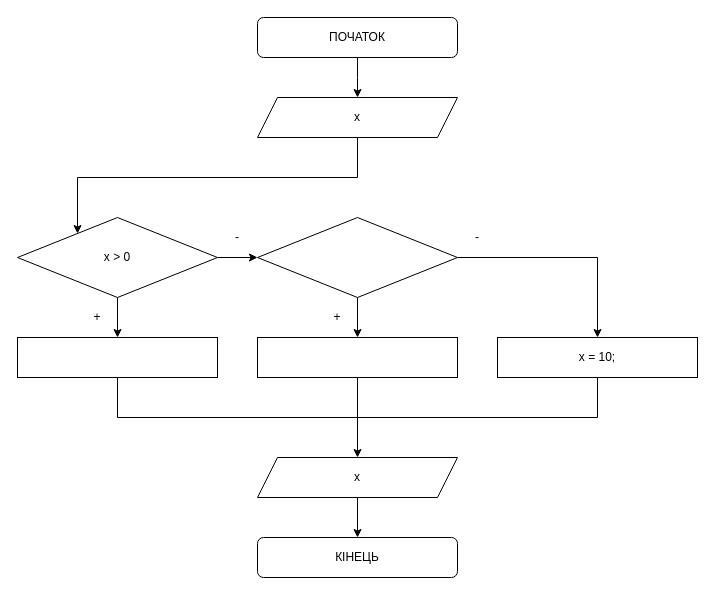
Image size: 715x595. Some labels were removed from this diagram. The box of each missing label's shape, as (x1, y1, x2, y2) in pixels:
x < 0: (256, 216, 458, 298)
x = x + 1;: (16, 336, 218, 378)
x = x - 2;: (256, 336, 458, 378)
